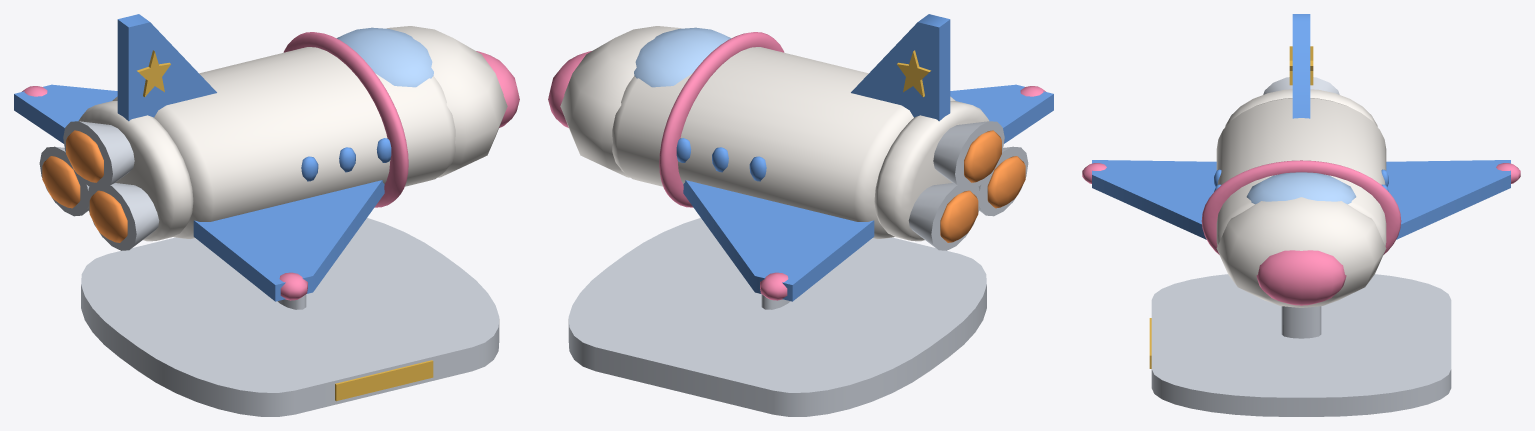
The model's file is gfree_shuttle.glb.
3 views of the same model, side by side, from view 1: azimuth 30°, elevation 25°; view 2: azimuth 150°, elevation 25°; view 3: azimuth 270°, elevation 25° (orthographic). The views are drawn at different scales.
Visible parts, largest first — view 1: gfree_shuttle; view 2: gfree_shuttle; view 3: gfree_shuttle.
Boxes of the visible parts, bbox=[...] form: gfree_shuttle: bbox=[14, 14, 519, 416]; gfree_shuttle: bbox=[548, 14, 1053, 416]; gfree_shuttle: bbox=[1082, 14, 1520, 416].
Size of the model in its own units: 0.8023 by 0.6067 by 0.8786.
